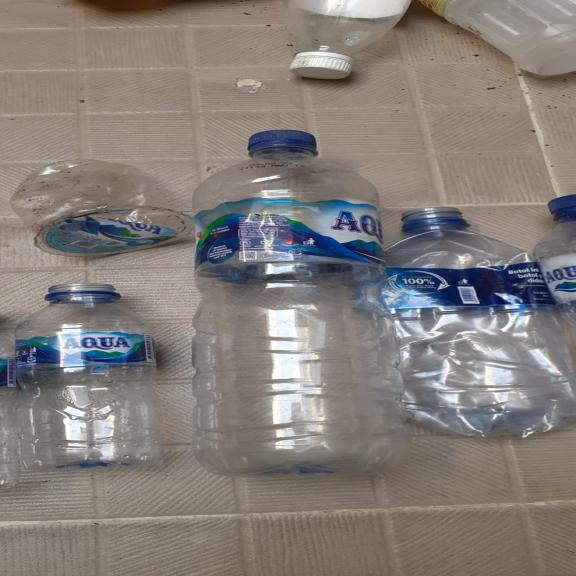Plastik: (191, 128, 406, 478), (384, 205, 576, 439), (14, 282, 169, 471), (418, 0, 576, 76), (280, 0, 415, 82), (535, 192, 576, 325)
